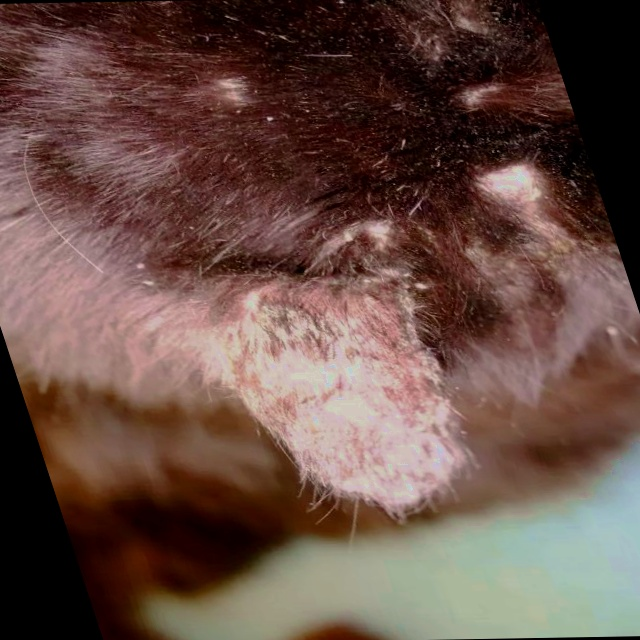ringworm: (237, 300, 431, 436)
